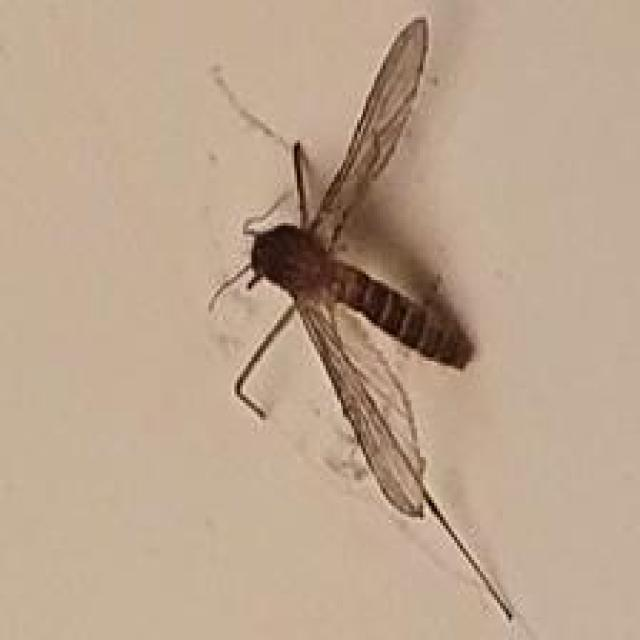Culex: (203, 14, 543, 640)
